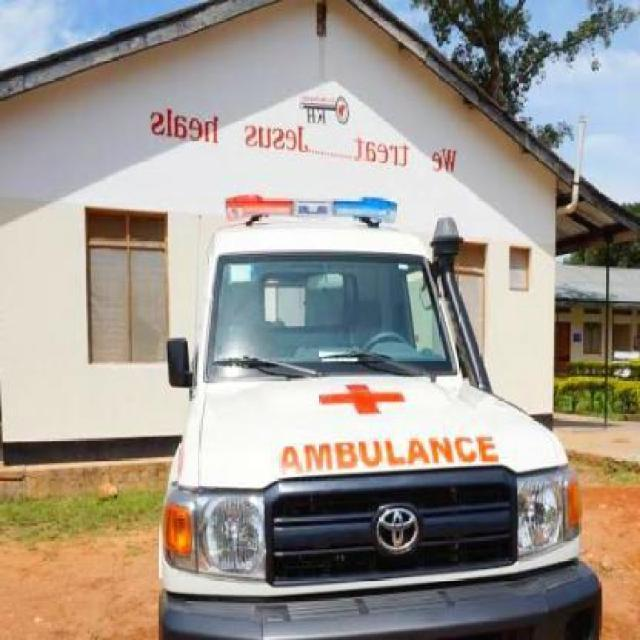emergency: (155, 192, 603, 638)
